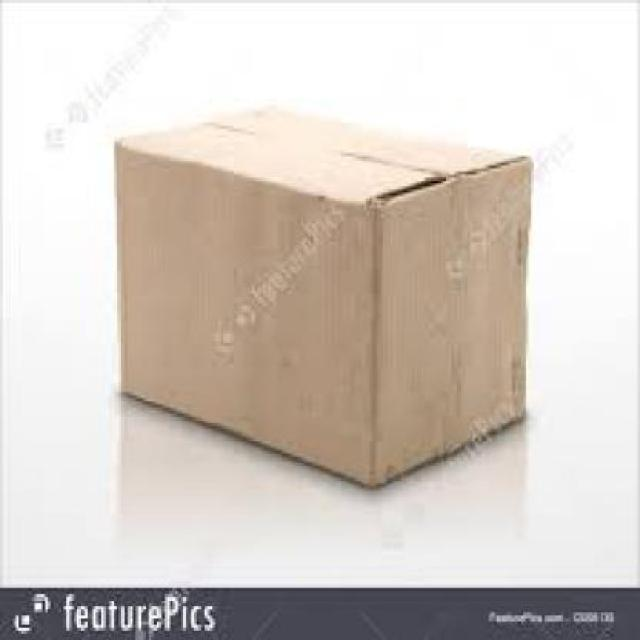CARDBOARD: (114, 104, 529, 484)
